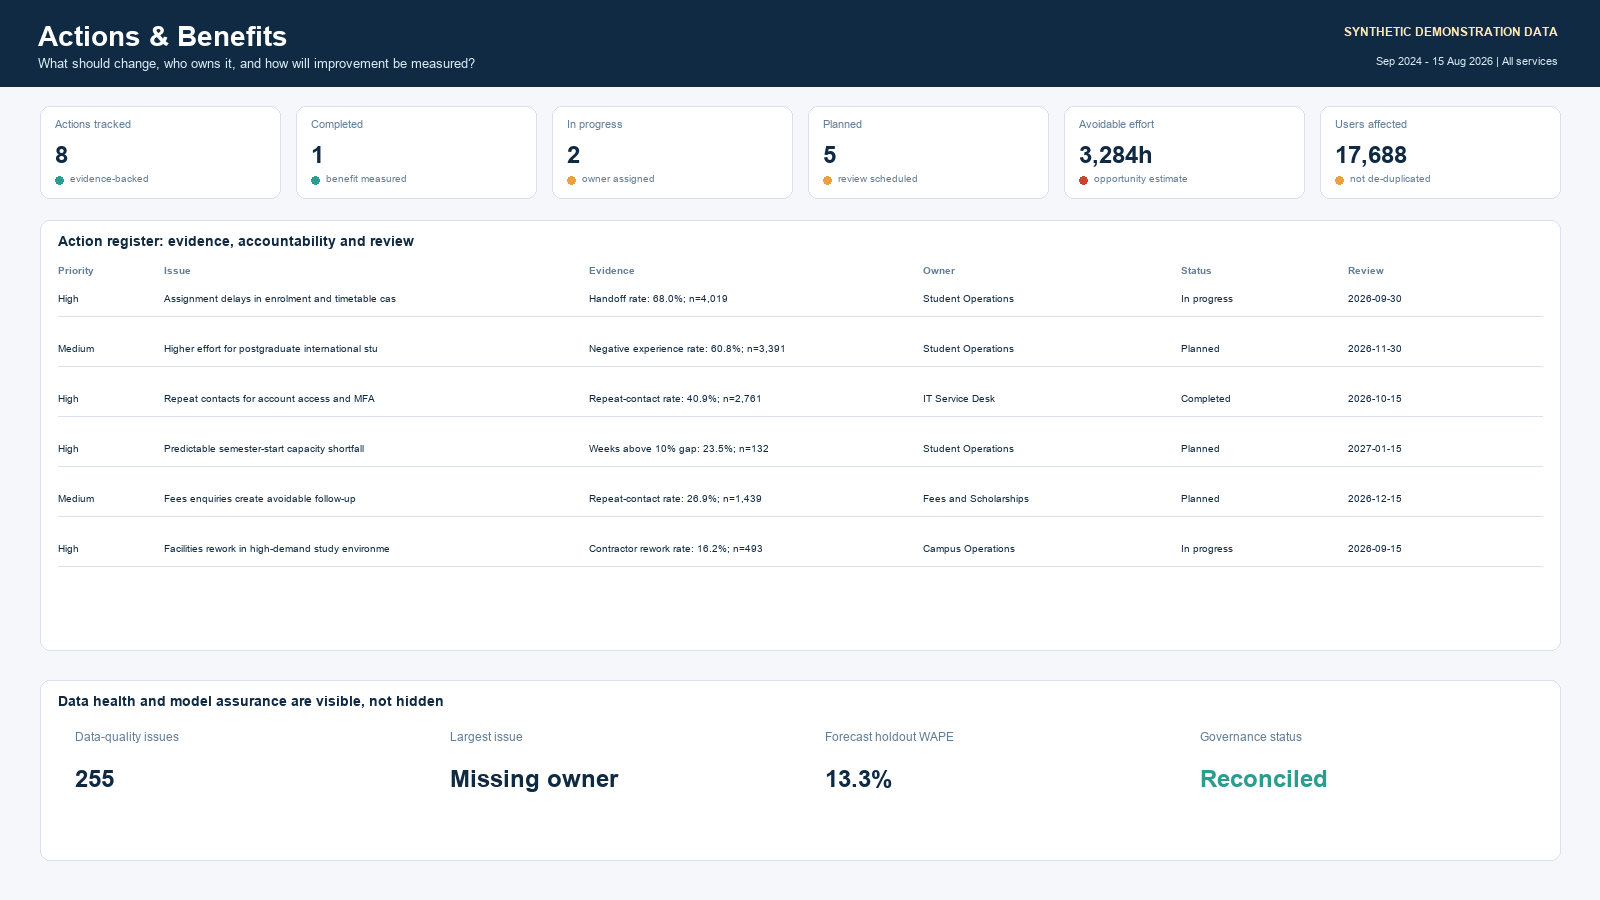

The page's visual inventory and layout, read from the dashboard file:
{"tool":"powerbi","page":{"name":"Actions & Benefits","canvas":[1920,1080],"ordinal":3},"visuals":[{"type":"tableEx","title":"Action register: owner, status and next review","fields":{"Values":["FactActionInsight.action_id","FactActionInsight.issue","DimTeam.team_name","FactActionInsight.action_status","FactActionInsight.priority","FactActionInsight.next_review_date"]},"box":[15,90,1260,470],"z":0},{"type":"tableEx","title":"Baseline vs target vs actual by action (units differ; compare within each row)","fields":{"Values":["FactActionInsight.action_id","FactActionInsight.success_measure","Sum(FactActionInsight.baseline_value)","Sum(FactActionInsight.target_value)","Sum(FactActionInsight.actual_value)","FactActionInsight.unit"]},"box":[15,570,1260,470],"z":1000},{"type":"clusteredBarChart","title":"Estimated avoidable staff hours by issue","fields":{"Category":["FactActionInsight.issue"],"Y":["Sum(FactActionInsight.estimated_avoidable_staff_hours)"]},"box":[1285,90,635,470],"z":2000},{"type":"cardVisual","fields":{"Data":["_Measures.Data Quality Issues","_Measures.Cases with Repaired Data %","_Measures.Forecast WAPE"]},"box":[1285,570,635,470],"z":3000},{"type":"textbox","box":[15,10,1150,70],"z":3001},{"type":"slicer","fields":{"Values":["DimService.service_name"]},"box":[1210,5,340,80],"z":3002},{"type":"slicer","fields":{"Values":["DimCampus.campus_name"]},"box":[1565,5,340,80],"z":3003}]}

Visuals, with their boxes in screenshot pixels (x1, y1, x2, y2), scaled from the page's 1920x1080 canvas onto the 1600x900 screenshot:
"Action register: owner, status and next review" tableEx: bbox(12, 75, 1062, 467)
"Baseline vs target vs actual by action (units differ; compare within each row)" tableEx: bbox(12, 475, 1062, 867)
"Estimated avoidable staff hours by issue" clusteredBarChart: bbox(1071, 75, 1599, 467)
cardVisual - _Measures.Data Quality Issues x _Measures.Cases with Repaired Data %: bbox(1071, 475, 1599, 867)
textbox: bbox(12, 8, 971, 67)
slicer - DimService.service_name: bbox(1008, 4, 1292, 71)
slicer - DimCampus.campus_name: bbox(1304, 4, 1588, 71)
